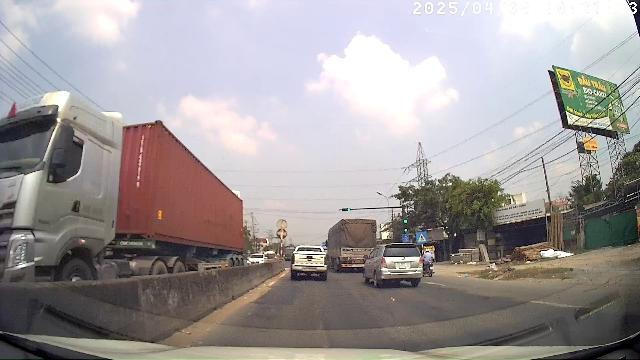423a-duong-nguoi-di-bo-sang-ngang-1: (417, 232, 427, 242)
